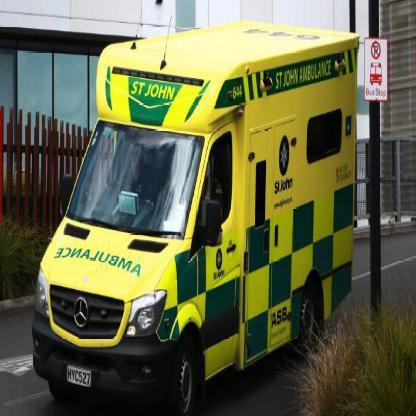Ambulance - v1 Ambulance last generate: (25, 20, 364, 402)
